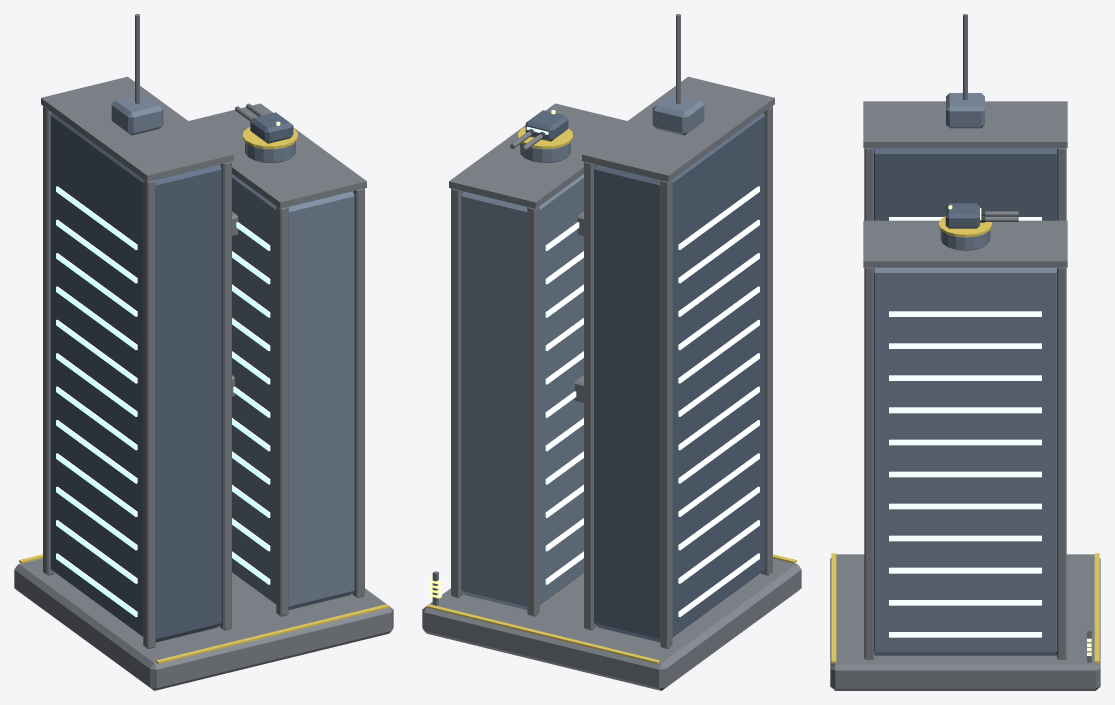
File: zone_high_2_t4.glb
3 renders of one model, left to right at view 1: azimuth 30°, elevation 25°; view 2: azimuth 150°, elevation 25°; view 3: azimuth 270°, elevation 25°, orthographic. The views are drawn at different scales.
Parts seen in each view (by area): view 1: zone_high_2_t4, detail; view 2: zone_high_2_t4, detail; view 3: zone_high_2_t4, detail.
Boxes of the visible parts, left/top/right/bottom form: zone_high_2_t4: left=14, top=76, right=393, bottom=690; detail: left=19, top=14, right=388, bottom=663; zone_high_2_t4: left=422, top=76, right=801, bottom=690; detail: left=427, top=14, right=796, bottom=663; zone_high_2_t4: left=830, top=93, right=1100, bottom=690; detail: left=831, top=14, right=1099, bottom=663.
Size of the model in its own units: 27.5 by 66.23 by 27.5.
